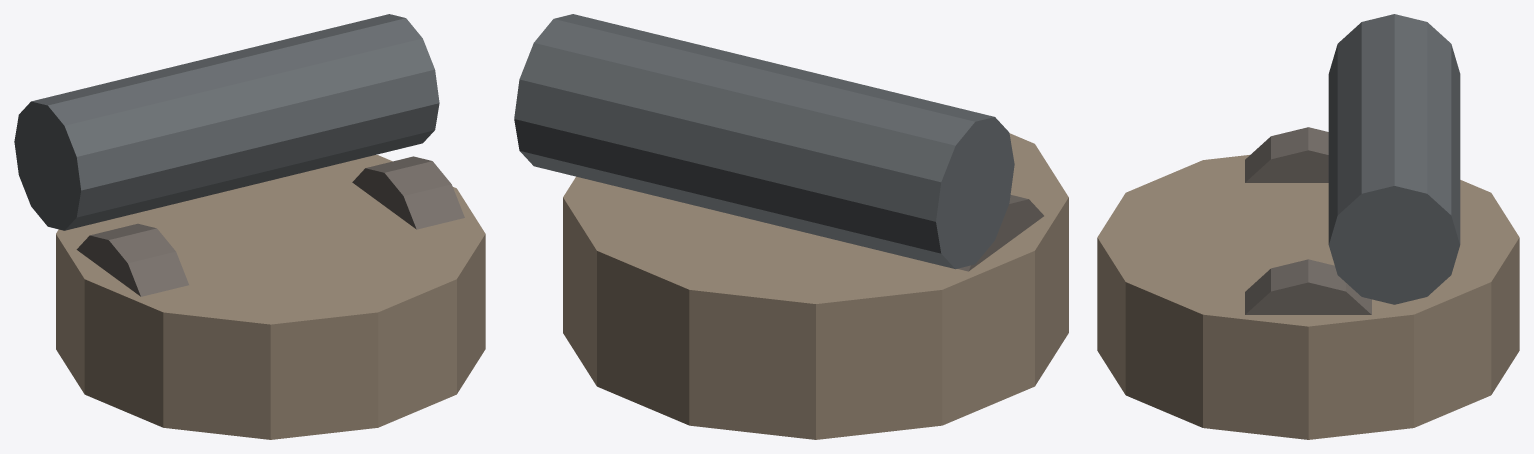
Rendered from cannon.glb.
3 views of the same model, side by side, from view 1: azimuth 30°, elevation 25°; view 2: azimuth 150°, elevation 25°; view 3: azimuth 270°, elevation 25° (orthographic). The views are drawn at different scales.
Visible parts, largest first — view 1: cannon_0, cannon_1, cannon_2, cannon_3; view 2: cannon_0, cannon_1, cannon_2; view 3: cannon_0, cannon_1, cannon_3, cannon_2.
Part boxes in pixels (box(x1,y1,x2,y2)): cannon_0: box(56, 155, 485, 439); cannon_1: box(14, 14, 439, 230); cannon_2: box(76, 223, 188, 296); cannon_3: box(352, 156, 464, 229); cannon_0: box(563, 133, 1068, 439); cannon_1: box(514, 14, 1014, 269); cannon_2: box(957, 195, 1043, 271); cannon_0: box(1097, 155, 1519, 439); cannon_1: box(1328, 14, 1460, 304); cannon_3: box(1245, 259, 1371, 314); cannon_2: box(1245, 127, 1328, 182).
Bounding box in the file's own units: 2.7 × 1.77 × 2.7.
